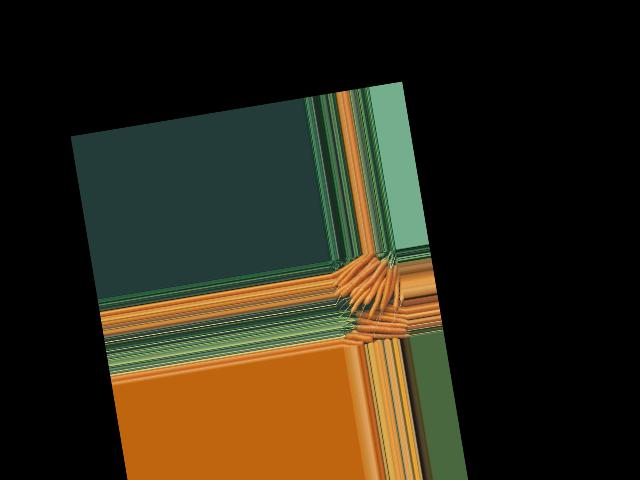carrot: (377, 266, 402, 308)
